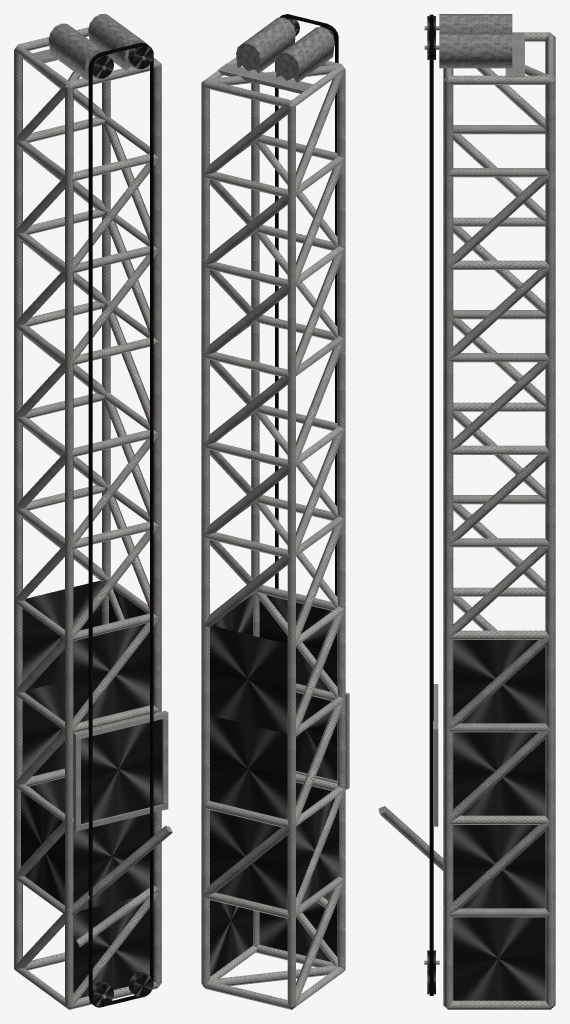
Rendered from BigLift.FBX.
3 renders of one model, left to right at view 1: azimuth 30°, elevation 25°; view 2: azimuth 150°, elevation 25°; view 3: azimuth 270°, elevation 25°, orthographic. The views are drawn at different scales.
Visible parts, largest first — view 1: BigLift, Setka, Remen, PlaneEasy, ListRamka, Motor1, Motor002, Disk001, Disk003, Disk, Disk002; view 2: BigLift, Setka, Remen, PlaneEasy, Motor1, Motor002, ListRamka; view 3: BigLift, Setka, Remen, Motor002, Motor1, ListRamka.
Boxes of the visible parts, left/top/right/bottom form: BigLift: left=14, top=27, right=172, bottom=1009; Setka: left=21, top=580, right=149, bottom=997; Remen: left=88, top=42, right=153, bottom=1007; PlaneEasy: left=81, top=719, right=162, bottom=823; ListRamka: left=73, top=710, right=168, bottom=831; Motor1: left=48, top=23, right=108, bottom=80; Motor002: left=88, top=14, right=147, bottom=70; Disk001: left=128, top=972, right=153, bottom=997; Disk003: left=128, top=46, right=153, bottom=68; Disk: left=92, top=981, right=113, bottom=1007; Disk002: left=88, top=54, right=113, bottom=78; BigLift: left=201, top=57, right=345, bottom=1009; Setka: left=210, top=594, right=338, bottom=976; Remen: left=275, top=14, right=338, bottom=596; PlaneEasy: left=296, top=692, right=337, bottom=780; Motor1: left=275, top=27, right=334, bottom=82; Motor002: left=236, top=17, right=295, bottom=73; ListRamka: left=296, top=692, right=349, bottom=789; BigLift: left=378, top=32, right=555, bottom=1009; Setka: left=453, top=640, right=545, bottom=1000; Remen: left=429, top=14, right=433, bottom=995; Motor002: left=424, top=33, right=512, bottom=68; Motor1: left=424, top=14, right=512, bottom=33; ListRamka: left=433, top=684, right=438, bottom=826.
Bounding box in the file's own units: 11 × 104 × 17.35.
4 materials, 4 textured.
